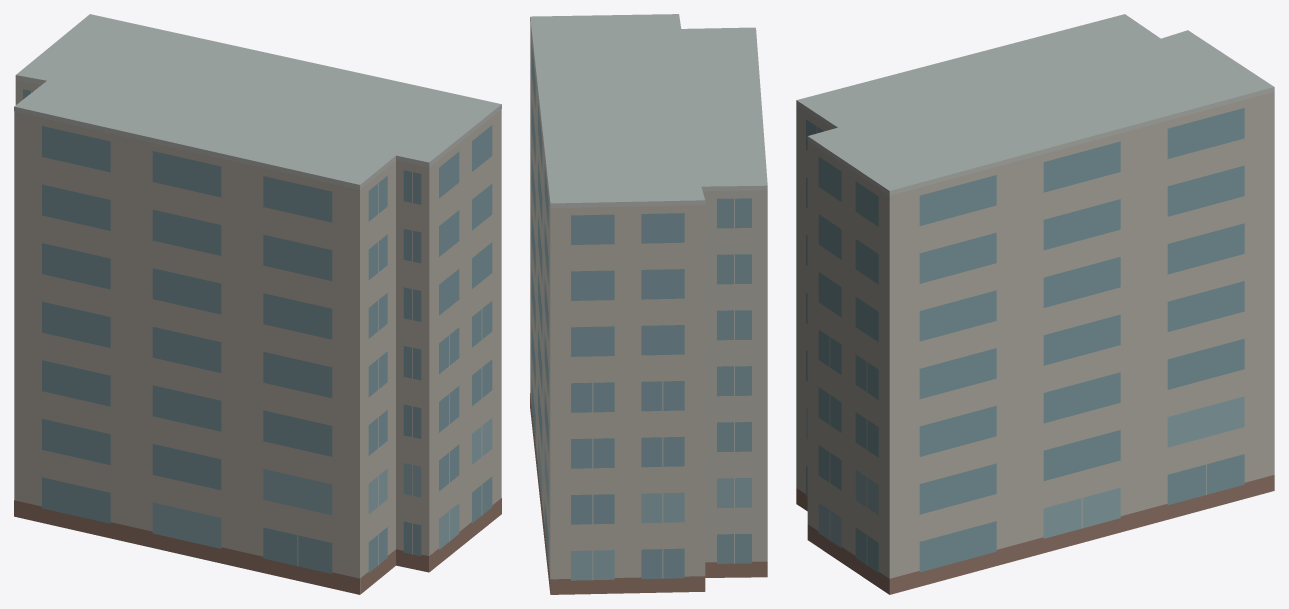
The model's file is survey-upis-33021158.glb.
The picture shows the model from 3 angles, left to right: view 1: azimuth 30°, elevation 25°; view 2: azimuth 150°, elevation 25°; view 3: azimuth 270°, elevation 25°; orthographic projection. The views are drawn at different scales.
Visible parts, largest first — view 1: survey-upis-33021158.tmp; view 2: survey-upis-33021158.tmp; view 3: survey-upis-33021158.tmp.
Part boxes in pixels (x1,y1,x2,y2): survey-upis-33021158.tmp: (14, 14, 501, 594); survey-upis-33021158.tmp: (530, 14, 767, 594); survey-upis-33021158.tmp: (796, 14, 1274, 594).
Bounding box in the file's own units: 19.44 × 20.67 × 22.19.
